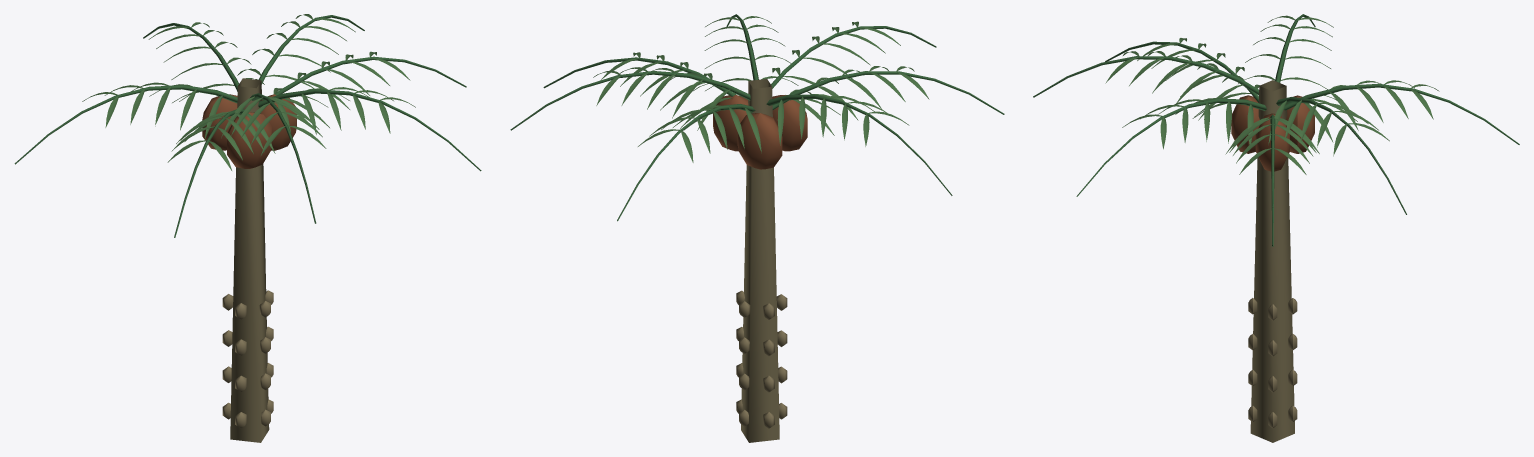
File: palma_aceitera.glb
3 views of the same model, side by side, from view 1: azimuth 30°, elevation 25°; view 2: azimuth 150°, elevation 25°; view 3: azimuth 270°, elevation 25° (orthographic).
Parts seen in each view (by area): view 1: palma_aceitera; view 2: palma_aceitera; view 3: palma_aceitera.
Boxes of the visible parts, <box> form: palma_aceitera: <box>14,14,481,442</box>; palma_aceitera: <box>510,14,1004,442</box>; palma_aceitera: <box>1033,14,1519,442</box>.
Size of the model in its own units: 3.98 by 3.26 by 3.93.
